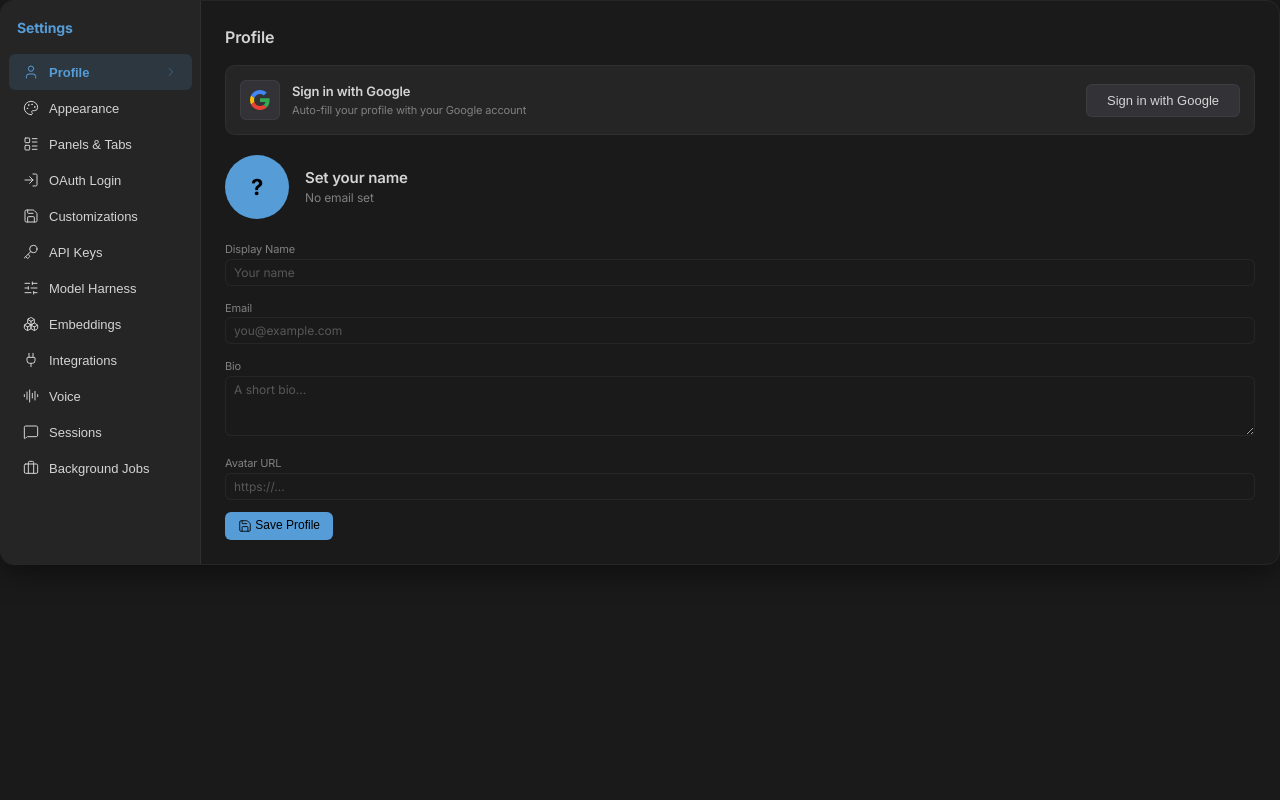
Test: SettingsPanel › Sessions section › renders four toggles when Sessions section is opened
What coordinates should you click on to do the following:
click the button "Sessions"
I would click on:
 (100, 432)
Its box is [9,414,192,450].
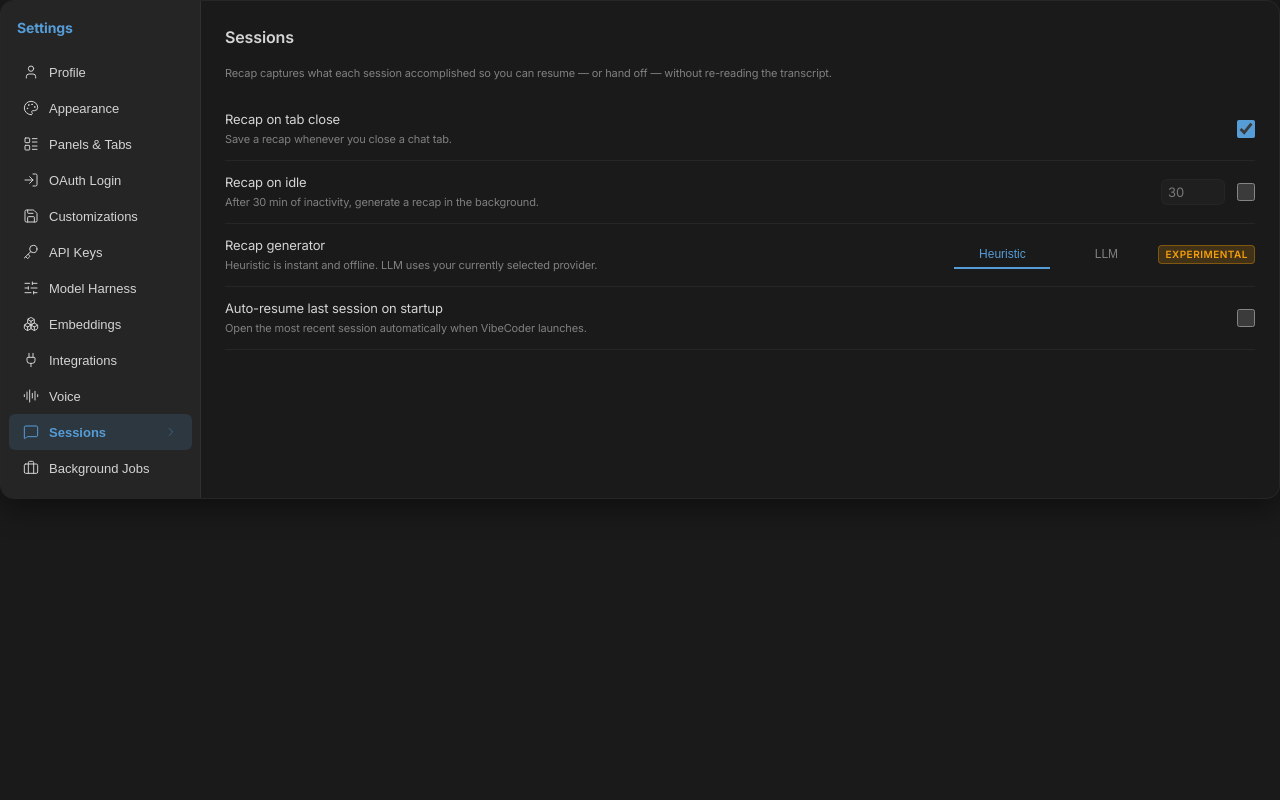
Now the checkbox named "Recap on tab close" is shown, box [1237,120,1255,138]
Now the checkbox named "Recap on idle" is shown, box [1237,182,1255,200]
Now the button with aria-label "Generator: heuristic" is shown, box [954,240,1050,268]
